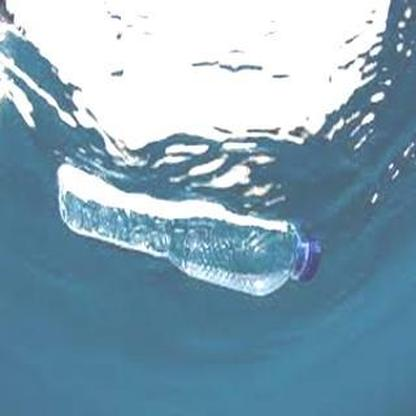plastic bottle: (56, 160, 322, 295)
